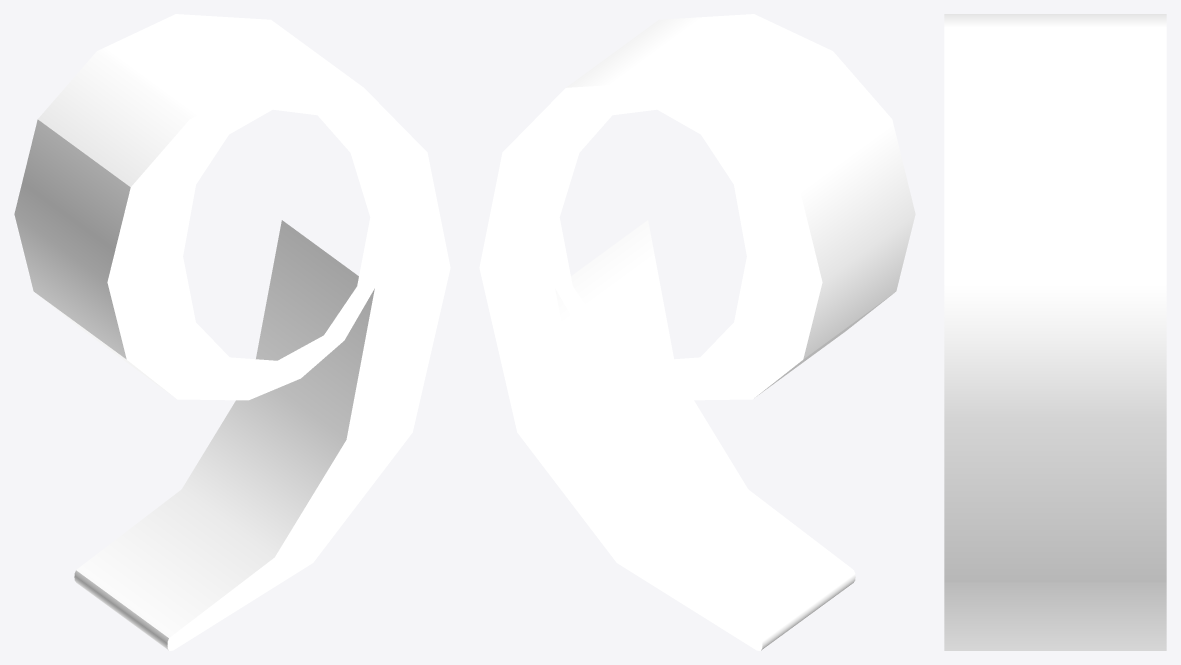
3 renders of one model, left to right at view 1: azimuth 30°, elevation 25°; view 2: azimuth 150°, elevation 25°; view 3: azimuth 270°, elevation 25°, orthographic. The views are drawn at different scales.
Visible parts, largest first — view 1: 9_Soul_White; view 2: 9_Soul_White; view 3: 9_Soul_White.
Boxes of the visible parts, x1,y1,x2,y2 form: 9_Soul_White: [14, 14, 450, 650]; 9_Soul_White: [479, 14, 915, 650]; 9_Soul_White: [944, 14, 1166, 650].
Size of what is drawn, in the model's own units: 0.0958 by 0.1455 by 0.045.
Materials: 2 (2 with a texture image).
